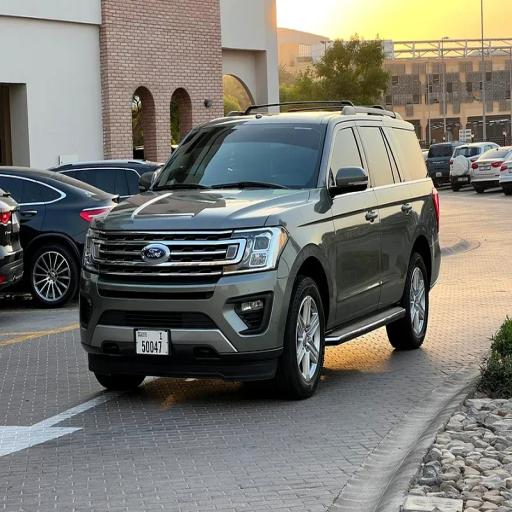license-plates: (136, 330, 169, 355)
